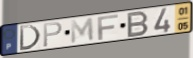4: (153, 6, 173, 35)
B: (126, 10, 150, 39)
D: (18, 24, 42, 52)
F: (96, 14, 119, 41)
M: (70, 17, 96, 45)
P: (43, 21, 64, 49)
